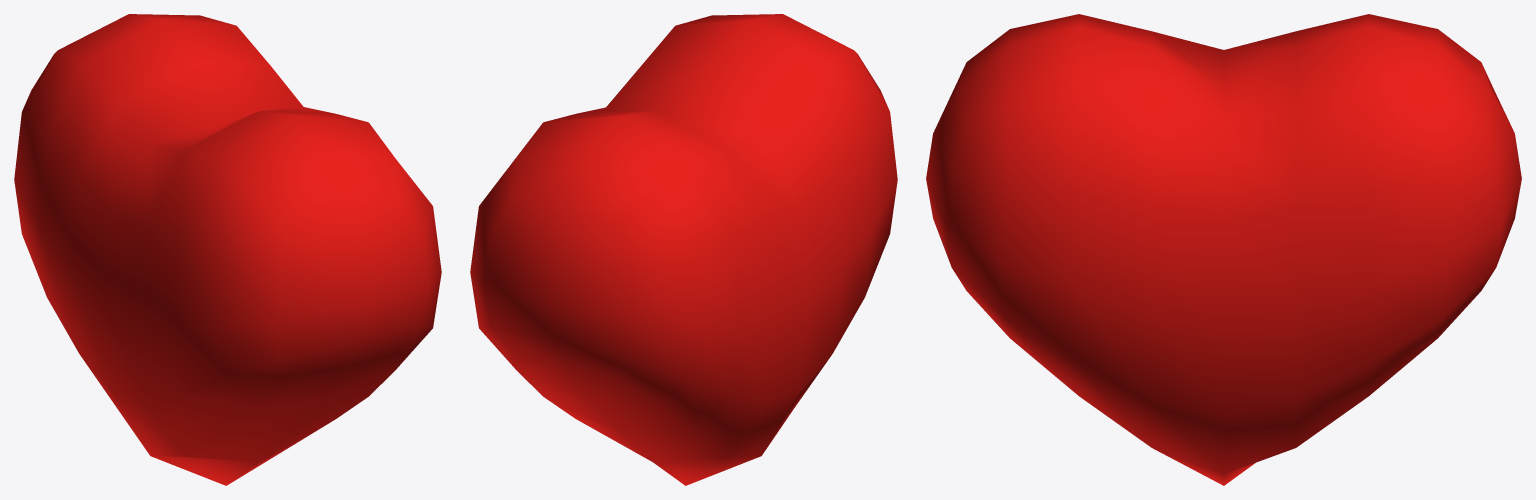
File: Heart.fbx
3 views of the same model, side by side, from view 1: azimuth 30°, elevation 25°; view 2: azimuth 150°, elevation 25°; view 3: azimuth 270°, elevation 25° (orthographic). The views are drawn at different scales.
Parts seen in each view (by area): view 1: Heart; view 2: Heart; view 3: Heart.
Boxes of the visible parts, x1,y1,x2,y2 form: Heart: (14,14,441,485); Heart: (470,14,897,485); Heart: (926,14,1521,485).
Bounding box in the file's own units: 112 × 175 × 207.
